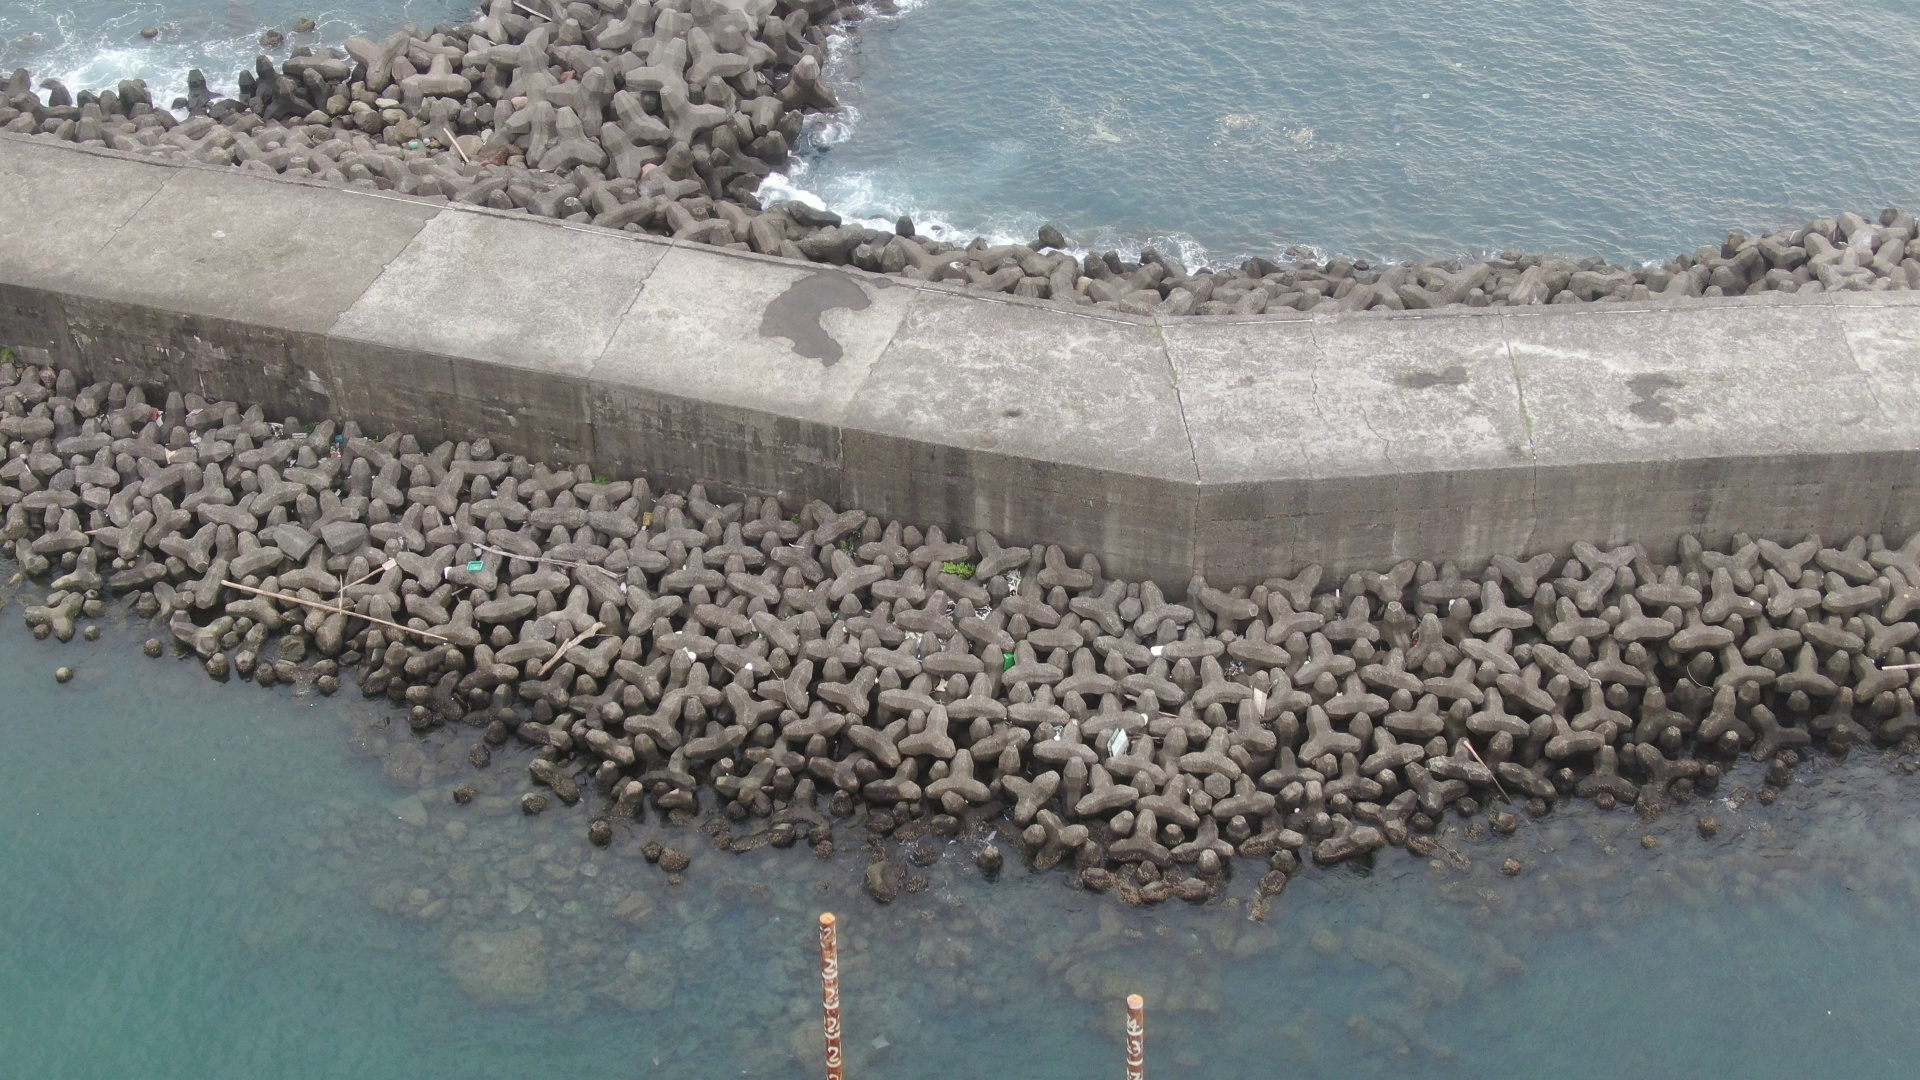garbage: (1097, 715, 1135, 771), (458, 553, 500, 584), (1000, 638, 1026, 683)
